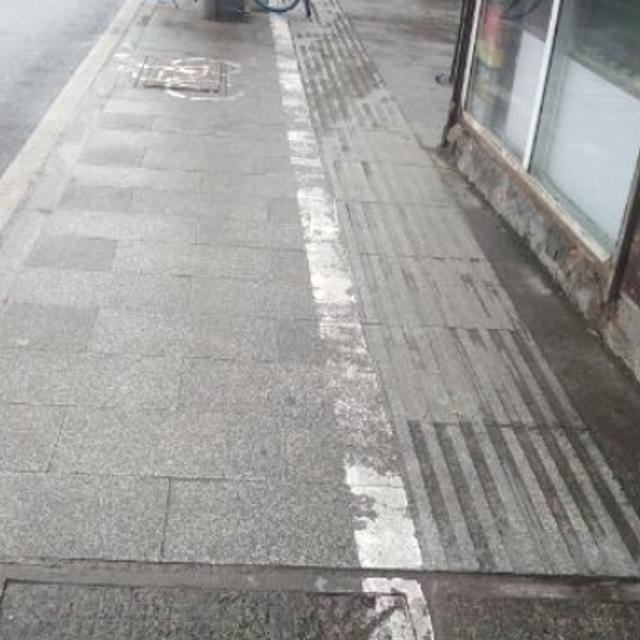broke: (0, 563, 478, 640)
good: (429, 572, 640, 640)
